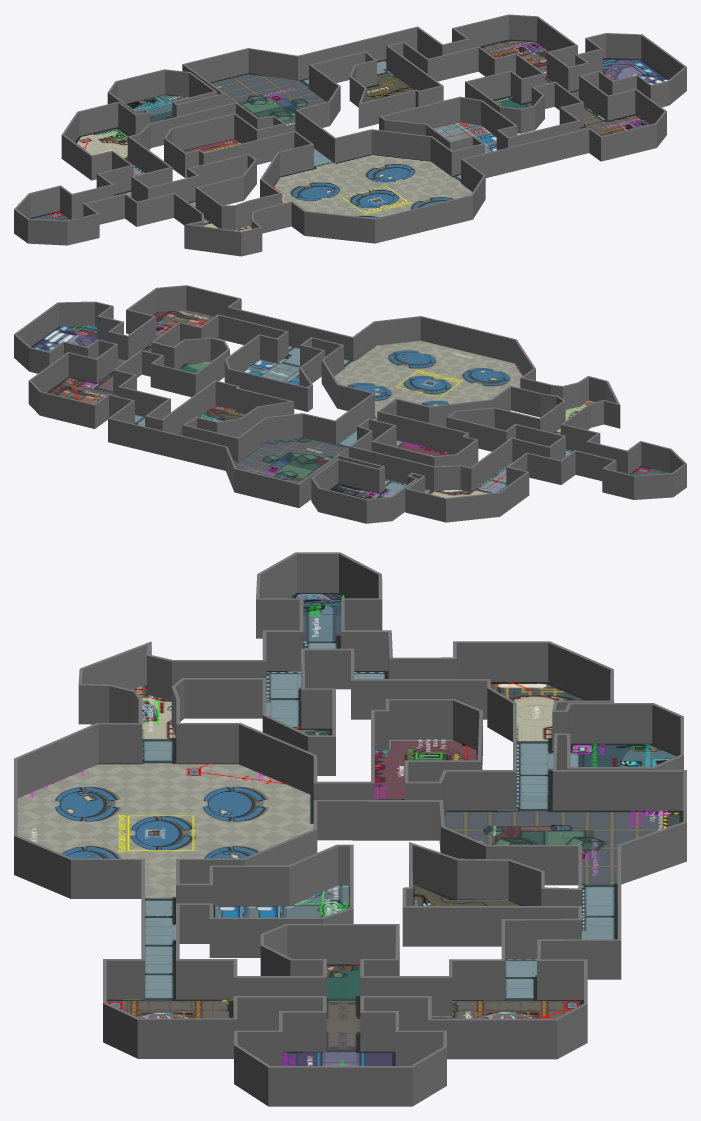
The model's file is SkeldMap.fbx.
3 views of the same model, one above another, from view 1: azimuth 30°, elevation 25°; view 2: azimuth 150°, elevation 25°; view 3: azimuth 270°, elevation 25° (orthographic). The views are drawn at different scales.
Visible parts, largest first — view 1: walls, floor; view 2: walls, floor; view 3: walls, floor.
Boxes of the visible parts, x1,y1,x2,y2 form: walls: (14, 14, 686, 256); floor: (30, 39, 668, 231); walls: (14, 285, 686, 523); floor: (31, 309, 669, 499); walls: (14, 552, 686, 1106); floor: (17, 593, 683, 1065).
Size of the model in its own units: 136 by 4.8 by 75.04.
2 materials, 1 textured.
